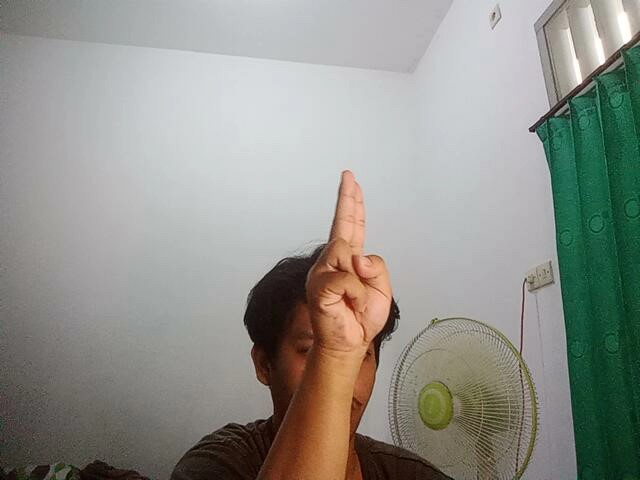U: (299, 162, 400, 350)
